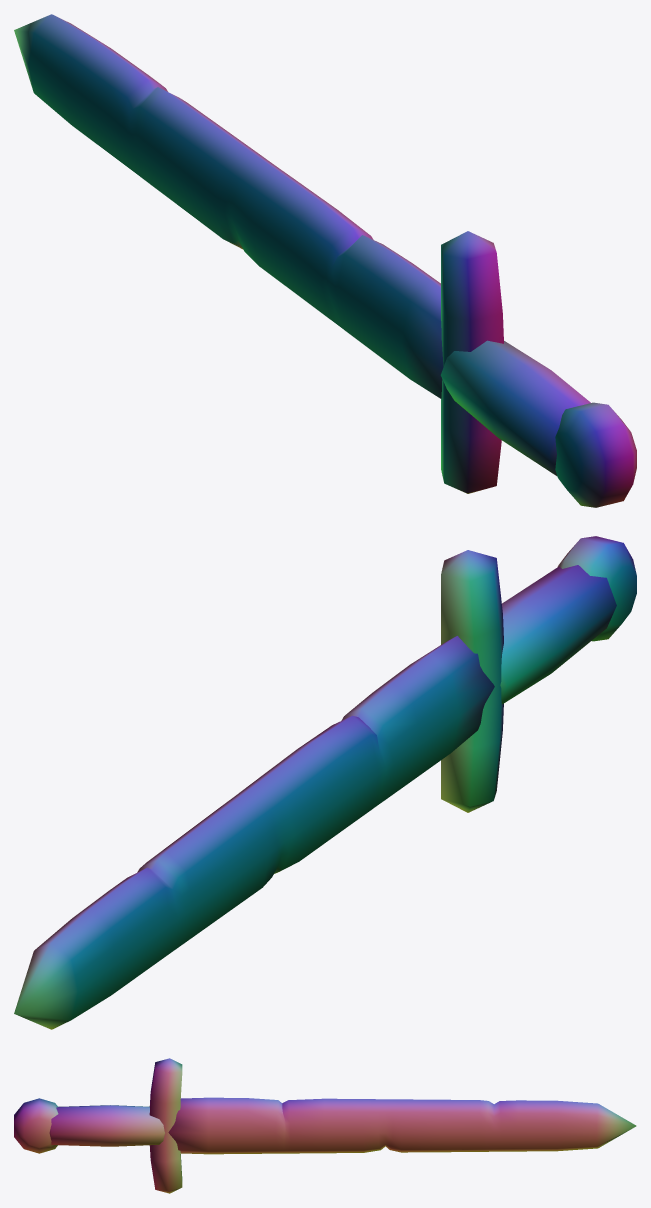
The model's file is SM_MonWeapon_Sword.fbx.
3 views of the same model, one above another, from view 1: azimuth 30°, elevation 25°; view 2: azimuth 150°, elevation 25°; view 3: azimuth 270°, elevation 25° (orthographic). The views are drawn at different scales.
Parts seen in each view (by area): view 1: SM_MonWeapon_Sword; view 2: SM_MonWeapon_Sword; view 3: SM_MonWeapon_Sword.
Boxes of the visible parts, left/top/right/bottom form: SM_MonWeapon_Sword: left=14, top=14, right=636, bottom=507; SM_MonWeapon_Sword: left=14, top=536, right=636, bottom=1029; SM_MonWeapon_Sword: left=14, top=1058, right=636, bottom=1193.
Size of the model in its own units: 0.0693 by 0.234 by 0.9757.
